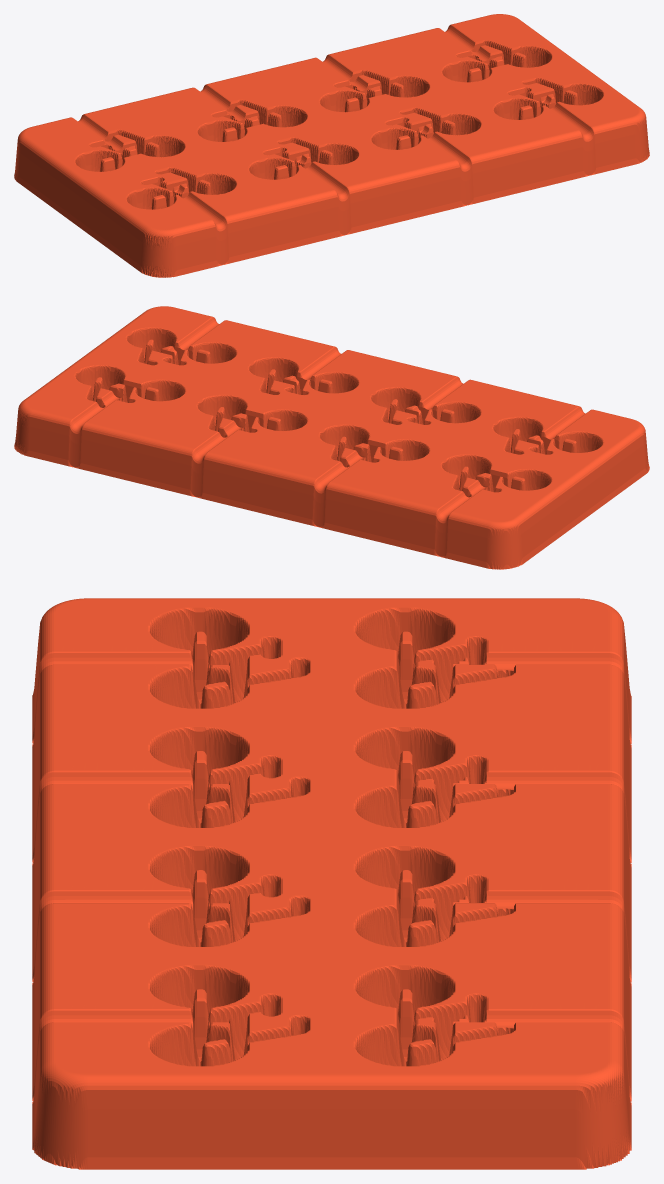
The model's file is mold.glb.
3 views of the same model, one above another, from view 1: azimuth 30°, elevation 25°; view 2: azimuth 150°, elevation 25°; view 3: azimuth 270°, elevation 25° (orthographic). The views are drawn at different scales.
Parts seen in each view (by area): view 1: geometry_0; view 2: geometry_0; view 3: geometry_0.
Part boxes in pixels (bbox=[...]): geometry_0: bbox=[14, 14, 649, 277]; geometry_0: bbox=[14, 306, 649, 569]; geometry_0: bbox=[32, 598, 631, 1169].
Size of the model in its own units: 0.1907 by 0.0155 by 0.0979.
